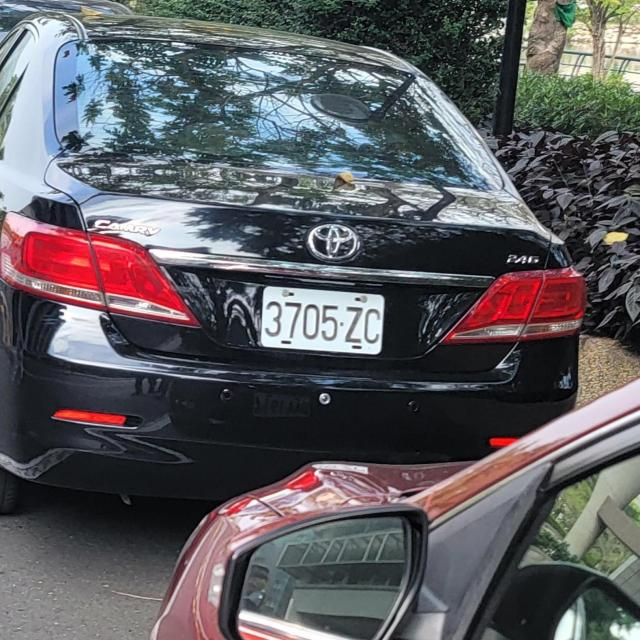W: (259, 284, 387, 356)
